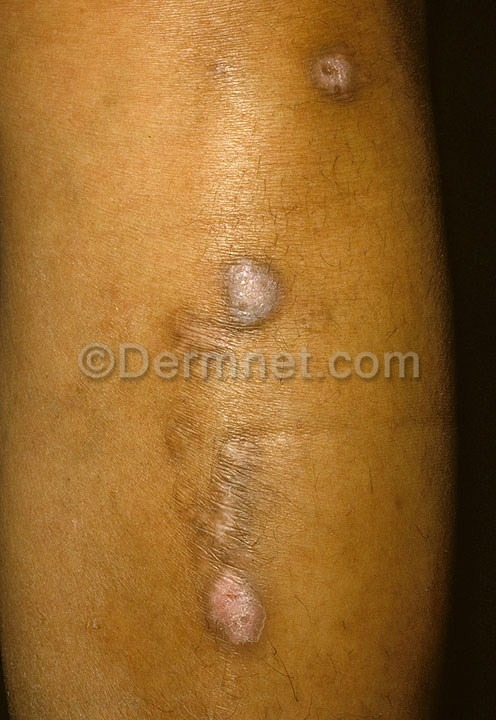Psoriasis: (149, 392, 296, 661), (151, 239, 303, 352), (303, 32, 370, 105)
